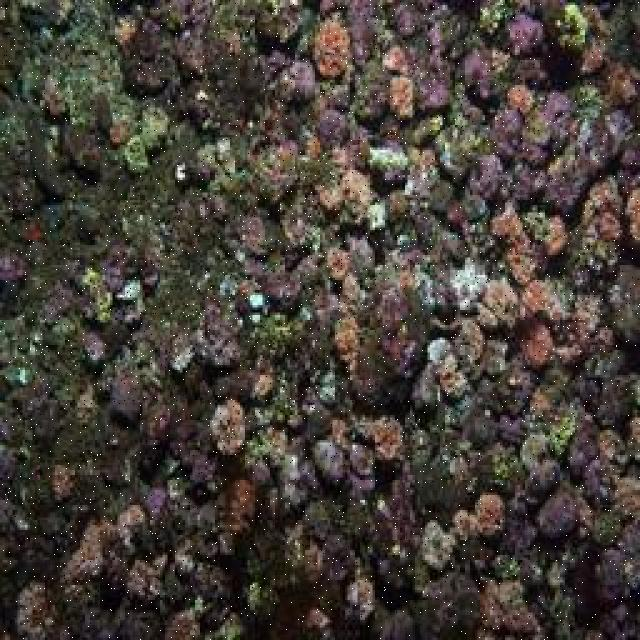reefs: (0, 0, 638, 636)
